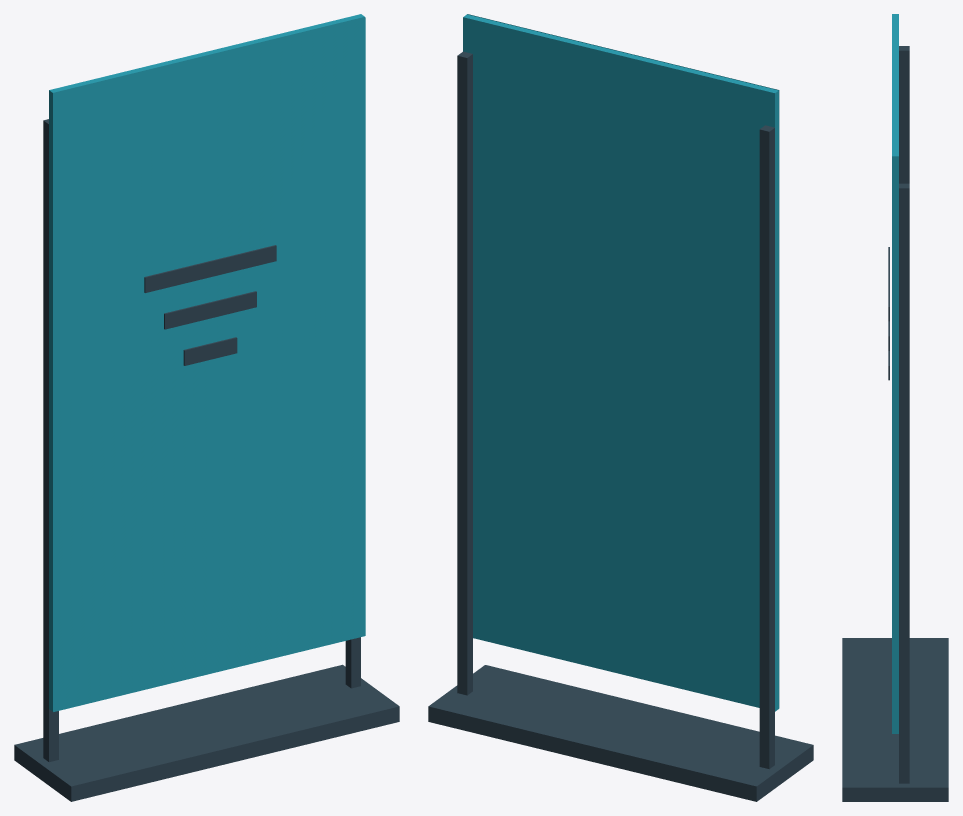
Rendered from banner-stand.v1.glb.
3 views of the same model, side by side, from view 1: azimuth 30°, elevation 25°; view 2: azimuth 150°, elevation 25°; view 3: azimuth 270°, elevation 25° (orthographic). The views are drawn at different scales.
Parts seen in each view (by area): view 1: branding_surface, mesh_base, mesh_banner_back, mesh_post_-0.46, branding_default_0, branding_default_1, branding_default_2, mesh_post_0.46; view 2: mesh_banner_back, mesh_base, mesh_post_-0.46, mesh_post_0.46, branding_surface; view 3: mesh_base, mesh_post_0.46, mesh_banner_back, mesh_post_-0.46.
Boxes of the visible parts, x1,y1,x2,y2 form: branding_surface: (53,17,365,711); mesh_base: (14,664,399,801); mesh_banner_back: (49,14,364,711); mesh_post_-0.46: (43,119,58,762); branding_default_0: (144,245,276,292); branding_default_1: (164,291,256,329); branding_default_2: (183,337,237,365); mesh_post_0.46: (345,637,360,688); mesh_banner_back: (463,14,778,711); mesh_base: (428,665,813,801); mesh_post_-0.46: (759,125,774,769); mesh_post_0.46: (457,51,472,695); branding_surface: (467,14,779,708); mesh_base: (842,638,948,801); mesh_post_0.46: (899,183,909,783); mesh_banner_back: (892,14,898,733); mesh_post_-0.46: (899,46,909,183).
Bounding box in the file's own units: 1 × 2 × 0.3.
